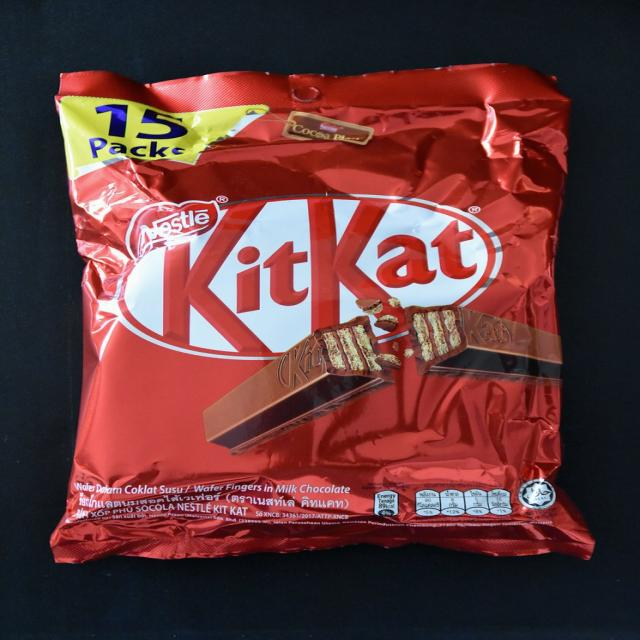kitkat: (53, 70, 594, 558)
